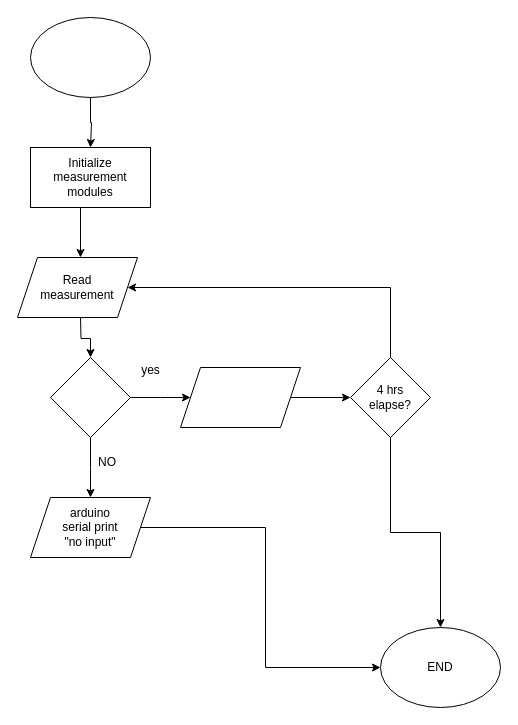
This 518x725 diagram has some shape labels left out. Each missing label, with the centre of its shape:
START: (90,57)
store measurement as csv in SD card: (240,397)
was value received: (90,397)
